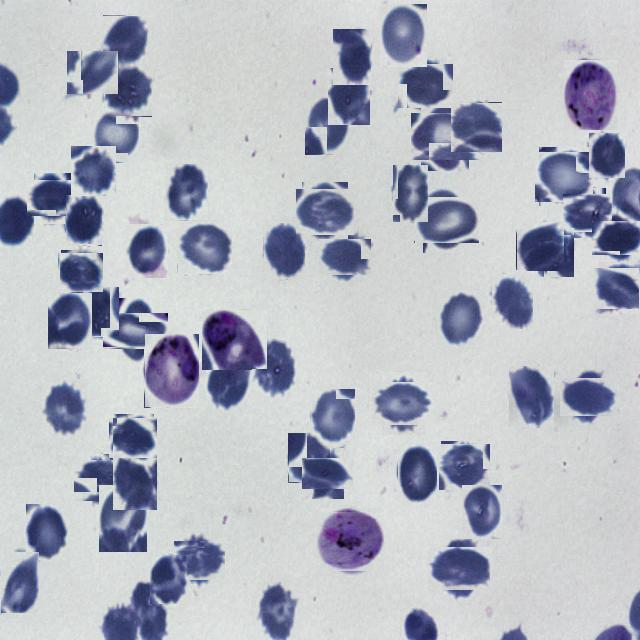difficult: (318, 510, 382, 574), (202, 310, 267, 369), (564, 59, 617, 130)
red blood cell: (416, 108, 474, 166), (99, 485, 147, 552), (418, 192, 474, 248), (380, 4, 427, 67), (177, 221, 231, 275), (433, 542, 487, 596), (537, 150, 591, 203), (377, 377, 431, 430), (508, 366, 554, 428), (299, 185, 351, 238), (254, 337, 297, 398), (438, 292, 484, 349), (42, 380, 87, 438), (104, 63, 152, 117), (110, 305, 160, 356), (452, 102, 502, 153), (92, 109, 140, 162), (164, 164, 208, 221), (305, 98, 349, 155), (400, 61, 450, 111), (202, 360, 252, 410), (310, 389, 355, 444), (48, 293, 92, 349), (439, 442, 488, 492), (263, 223, 305, 280), (328, 68, 370, 125), (397, 445, 437, 504), (1, 550, 39, 612), (564, 373, 612, 421), (77, 456, 125, 504), (516, 222, 564, 270), (102, 15, 148, 65), (26, 504, 67, 560), (113, 458, 157, 510), (66, 51, 118, 95), (126, 224, 168, 278), (492, 274, 533, 329), (71, 146, 116, 196), (462, 485, 502, 539), (333, 29, 371, 85), (177, 538, 223, 584), (288, 433, 330, 483), (596, 265, 640, 312), (392, 165, 428, 222), (323, 235, 368, 279), (111, 416, 156, 460), (566, 190, 610, 234), (596, 216, 640, 260), (30, 177, 74, 220), (65, 195, 102, 246), (150, 555, 188, 604), (82, 287, 119, 337), (537, 228, 574, 278), (60, 252, 102, 294), (307, 452, 349, 494), (588, 133, 625, 179)
trophozoite: (144, 334, 199, 408)
